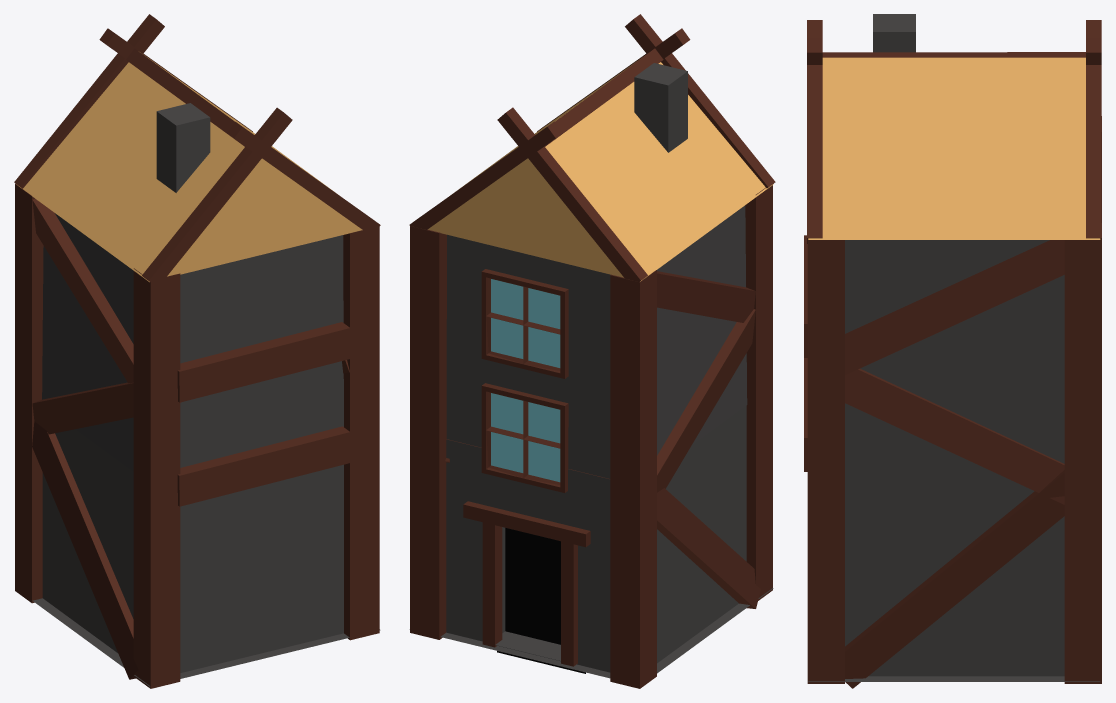
The model's file is HouseLvl3.fbx.
3 views of the same model, side by side, from view 1: azimuth 30°, elevation 25°; view 2: azimuth 150°, elevation 25°; view 3: azimuth 270°, elevation 25° (orthographic). The views are drawn at different scales.
Visible parts, largest first — view 1: Cube.032; view 2: Cube.032; view 3: Cube.032.
Boxes of the visible parts, <box> form: Cube.032: <box>14,14,380,688</box>; Cube.032: <box>409,14,775,688</box>; Cube.032: <box>804,14,1101,688</box>.
Size of the model in its own units: 130 by 300 by 132.
